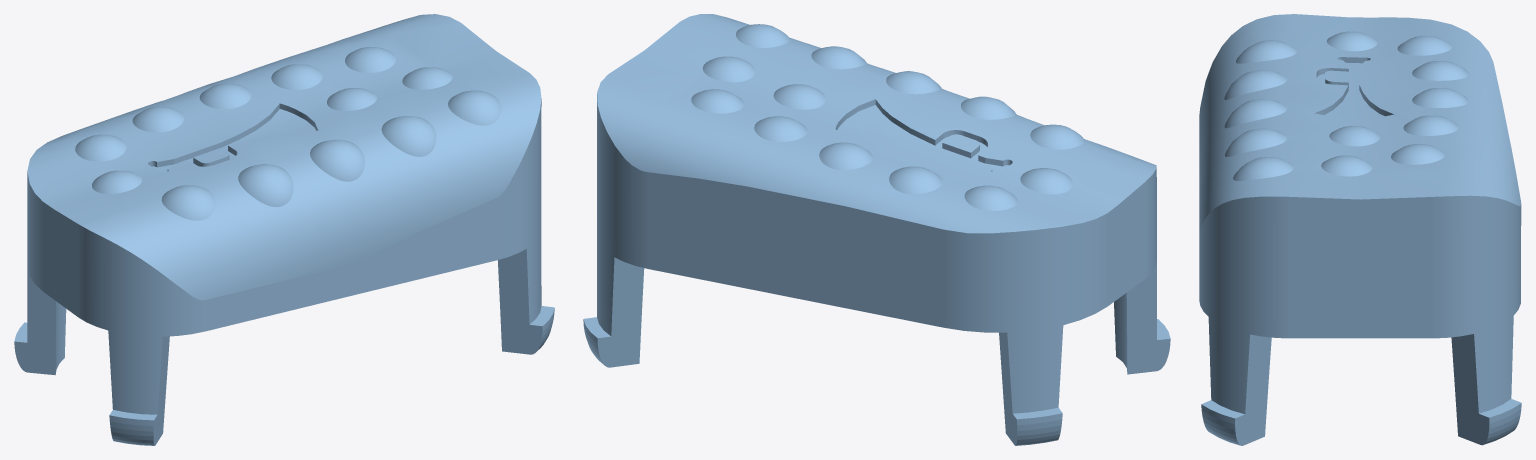
3 renders of one model, left to right at view 1: azimuth 30°, elevation 25°; view 2: azimuth 150°, elevation 25°; view 3: azimuth 270°, elevation 25°, orthographic. The views are drawn at different scales.
Parts seen in each view (by area): view 1: part_0; view 2: part_0; view 3: part_0.
Boxes of the visible parts, left/top/right/bottom form: part_0: left=14, top=14, right=554, bottom=445; part_0: left=583, top=14, right=1170, bottom=445; part_0: left=1199, top=14, right=1521, bottom=445.
Bounding box in the file's own units: 38.92 × 20.53 × 23.32.
